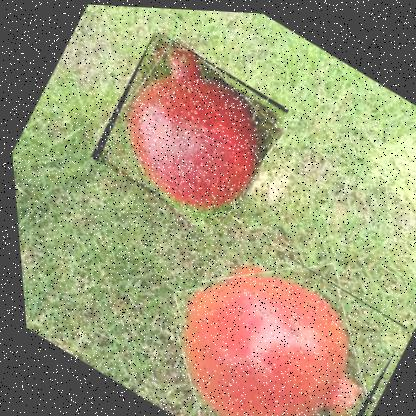pomegranate: (127, 214, 414, 415), (79, 24, 297, 240)
